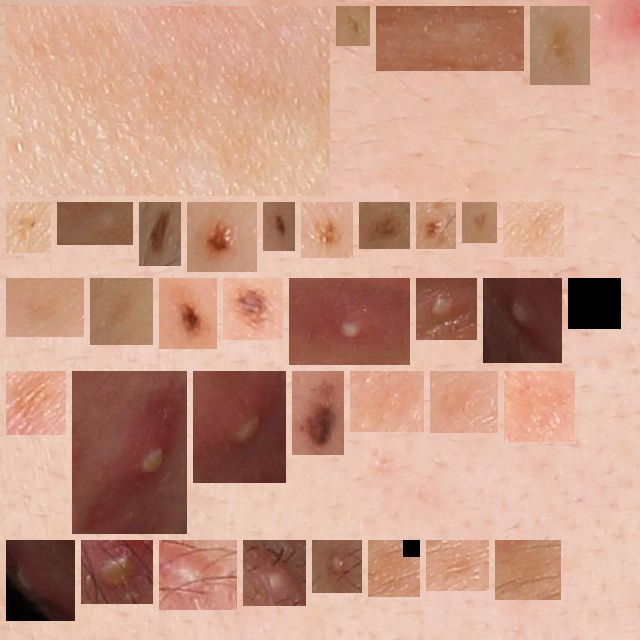hypertrophic_scar: (384, 14, 516, 63), (65, 210, 125, 237)
melasma: (14, 14, 322, 188), (512, 379, 567, 434), (538, 14, 582, 77), (14, 286, 76, 329), (358, 379, 416, 424), (98, 286, 145, 337), (438, 379, 490, 425), (503, 548, 553, 592), (14, 379, 58, 427), (511, 210, 556, 249), (434, 548, 481, 583), (376, 548, 412, 589), (14, 210, 43, 245), (344, 14, 362, 38)
nevus: (195, 210, 249, 264), (300, 379, 336, 447), (167, 286, 209, 341), (231, 286, 275, 332), (309, 210, 345, 250), (576, 286, 613, 321), (147, 210, 173, 258), (367, 210, 402, 241), (424, 210, 448, 241), (271, 210, 287, 243), (470, 210, 489, 235)
pustule: (80, 379, 179, 526), (297, 286, 402, 357), (201, 379, 278, 475), (491, 286, 554, 355), (14, 548, 67, 613), (167, 548, 229, 602), (89, 548, 145, 596), (251, 548, 298, 598), (424, 286, 469, 332), (320, 548, 354, 585)
